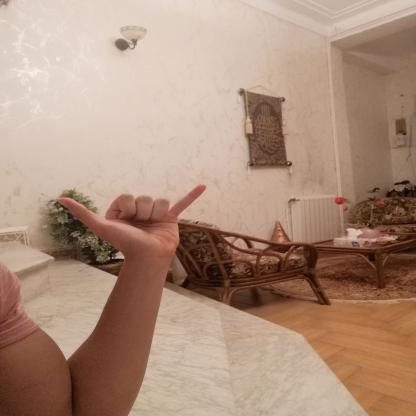YA: (45, 175, 221, 267)
